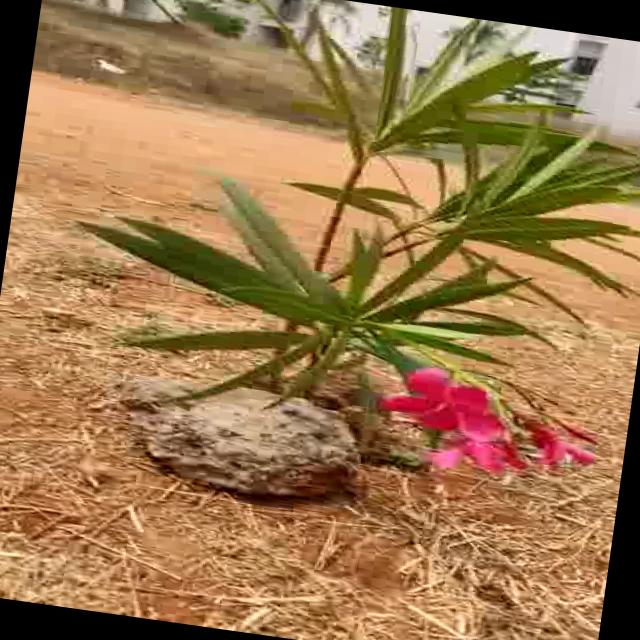OLEANDER: (57, 0, 640, 488)
